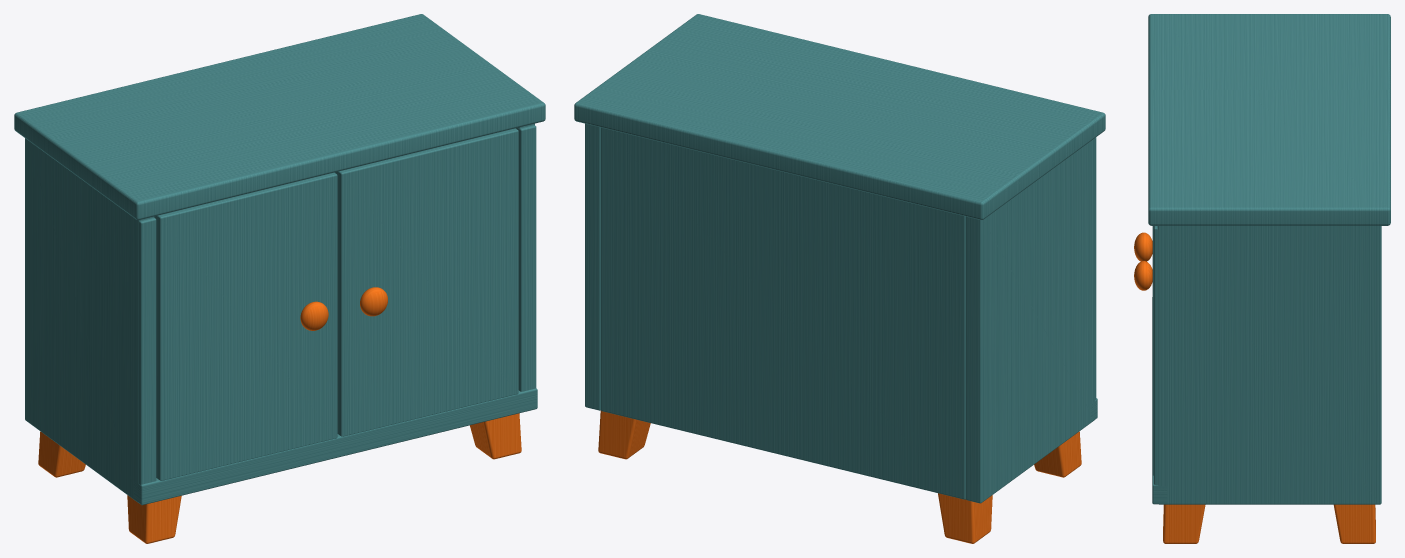
3 renders of one model, left to right at view 1: azimuth 30°, elevation 25°; view 2: azimuth 150°, elevation 25°; view 3: azimuth 270°, elevation 25°, orthographic. The views are drawn at different scales.
Parts seen in each view (by area): view 1: reused_Overhanging flat top, reused_Right door, reused_Left door, reused_Left side panel, reused_Front bottom rail, reused_Right front stile, reused_Left front stile, reused_Left front orange foot, reused_Right front orange foot, reused_Left rear orange foot, reused_Left round orange knob, reused_Right round orange knob; view 2: reused_Plain full back, reused_Overhanging flat top, reused_Left side panel, reused_Right side panel, reused_Left rear orange foot, reused_Right rear orange foot, reused_Left front orange foot; view 3: reused_Right side panel, reused_Overhanging flat top, reused_Right front orange foot, reused_Right rear orange foot, reused_Right front stile, reused_Right door, reused_Front bottom rail, reused_Right round orange knob, reused_Left round orange knob.
Boxes of the visible parts, x1,y1,x2,y2 form: reused_Overhanging flat top: (14, 14, 545, 220); reused_Right door: (335, 128, 518, 436); reused_Left door: (154, 172, 337, 480); reused_Left side panel: (25, 138, 154, 502); reused_Front bottom rail: (134, 388, 537, 505); reused_Right front stile: (516, 125, 536, 391); reused_Left front stile: (139, 217, 156, 484); reused_Left front orange foot: (127, 495, 181, 543); reused_Right front orange foot: (470, 413, 521, 459); reused_Left rear orange foot: (38, 431, 85, 477); reused_Left round orange knob: (300, 301, 328, 330); reused_Right round orange knob: (360, 287, 387, 316); reused_Plain full back: (600, 127, 965, 499); reused_Overhanging flat top: (574, 14, 1105, 220); reused_Left side panel: (965, 138, 1094, 503); reused_Right side panel: (585, 123, 600, 410); reused_Left rear orange foot: (938, 493, 992, 543); reused_Right rear orange foot: (598, 410, 650, 459); reused_Left front orange foot: (1034, 431, 1081, 477); reused_Right side panel: (1157, 226, 1381, 504); reused_Overhanging flat top: (1148, 14, 1390, 225); reused_Right front orange foot: (1163, 504, 1205, 543); reused_Right rear orange foot: (1333, 504, 1375, 543); reused_Right front stile: (1154, 226, 1158, 485); reused_Right door: (1152, 226, 1153, 475); reused_Front bottom rail: (1152, 297, 1167, 504); reused_Right round orange knob: (1134, 261, 1152, 290); reused_Left round orange knob: (1134, 232, 1152, 261).
Size of the model in its own units: 1.24 by 1.02 by 0.688.
Materials: 19 (19 with a texture image).
